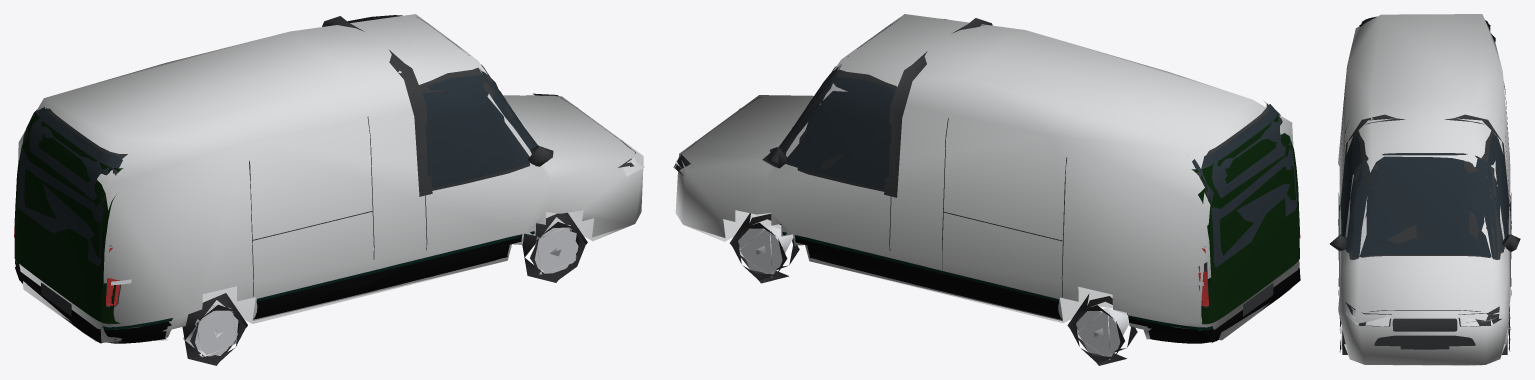
File: livr_expr_ufar.glb
The picture shows the model from 3 angles, left to right: view 1: azimuth 30°, elevation 25°; view 2: azimuth 150°, elevation 25°; view 3: azimuth 270°, elevation 25°; orthographic projection. The views are drawn at different scales.
Parts seen in each view (by area): view 1: Body, LeRearGreen, Glass-1, RearGlass, LeSill-1, WheelFR, WheelRR, Bpillar-1, LeTeal-1, WinFrame-1, LeRearSill; view 2: Body, LeRearGreen, Glass1, RearGlass, LeSill1, WheelRL, WheelFL, Bpillar1, LeTeal1, WinFrame1, LeRearSill; view 3: Body, Windshield, Glass-1, WsFrame, Glass1, Intake, Grille, HeadReflector, HeadBezel, WinFrame-1, WinFrame1, Bpillar1 (+4 smaller).
Boxes of the visible parts, x1,y1,x2,y2 form: Body: [18, 14, 643, 342]; LeRearGreen: [14, 113, 123, 324]; Glass-1: [422, 74, 535, 188]; RearGlass: [17, 107, 122, 266]; LeSill-1: [104, 237, 521, 343]; WheelFR: [522, 212, 587, 282]; WheelRR: [182, 293, 247, 365]; Bpillar-1: [389, 50, 432, 196]; LeTeal-1: [101, 231, 534, 330]; WinFrame-1: [419, 67, 531, 190]; LeRearSill: [15, 265, 116, 343]; Body: [675, 14, 1299, 340]; LeRearGreen: [1191, 112, 1299, 324]; Glass1: [783, 76, 894, 189]; RearGlass: [1192, 104, 1296, 266]; LeSill1: [795, 238, 1219, 343]; WheelRL: [1067, 294, 1137, 365]; WheelFL: [730, 213, 799, 283]; Bpillar1: [884, 51, 927, 197]; LeTeal1: [782, 232, 1213, 330]; WinFrame1: [782, 69, 897, 191]; LeRearSill: [1208, 268, 1300, 342]; Body: [1338, 14, 1510, 365]; Windshield: [1352, 153, 1497, 257]; Glass-1: [1341, 135, 1373, 251]; WsFrame: [1349, 153, 1500, 259]; Glass1: [1476, 133, 1508, 251]; Intake: [1374, 335, 1475, 346]; Grille: [1392, 318, 1457, 331]; HeadReflector: [1345, 305, 1501, 326]; HeadBezel: [1345, 302, 1501, 326]; WinFrame-1: [1341, 131, 1374, 253]; WinFrame1: [1481, 131, 1508, 253]; Bpillar1: [1444, 114, 1509, 209].
Bounding box in the file's own units: 5.62 × 2.31 × 2.14.
